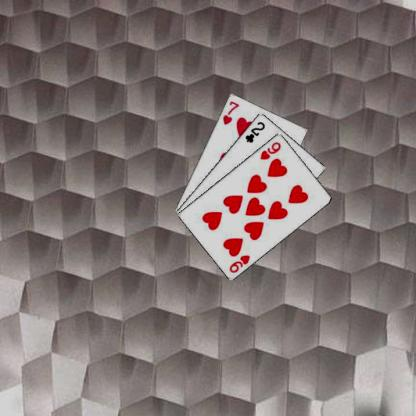2C: (243, 119, 266, 144)
7H: (220, 98, 240, 126)
9H: (227, 252, 251, 274), (258, 139, 282, 160)
